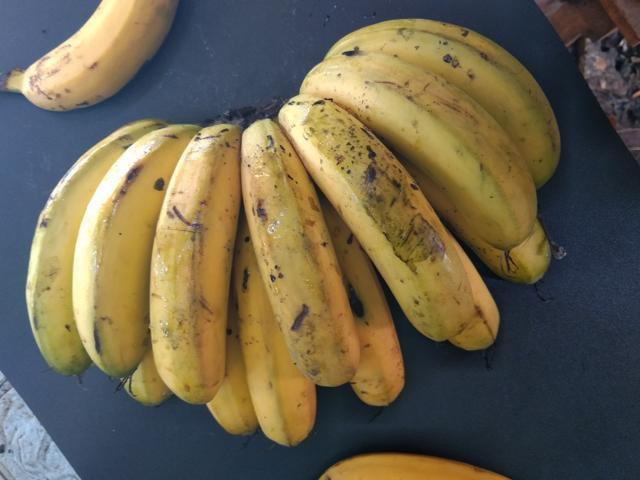ripe: (282, 72, 481, 340), (311, 50, 527, 246), (239, 113, 371, 382), (67, 111, 181, 395), (152, 96, 240, 407), (7, 0, 195, 119)
